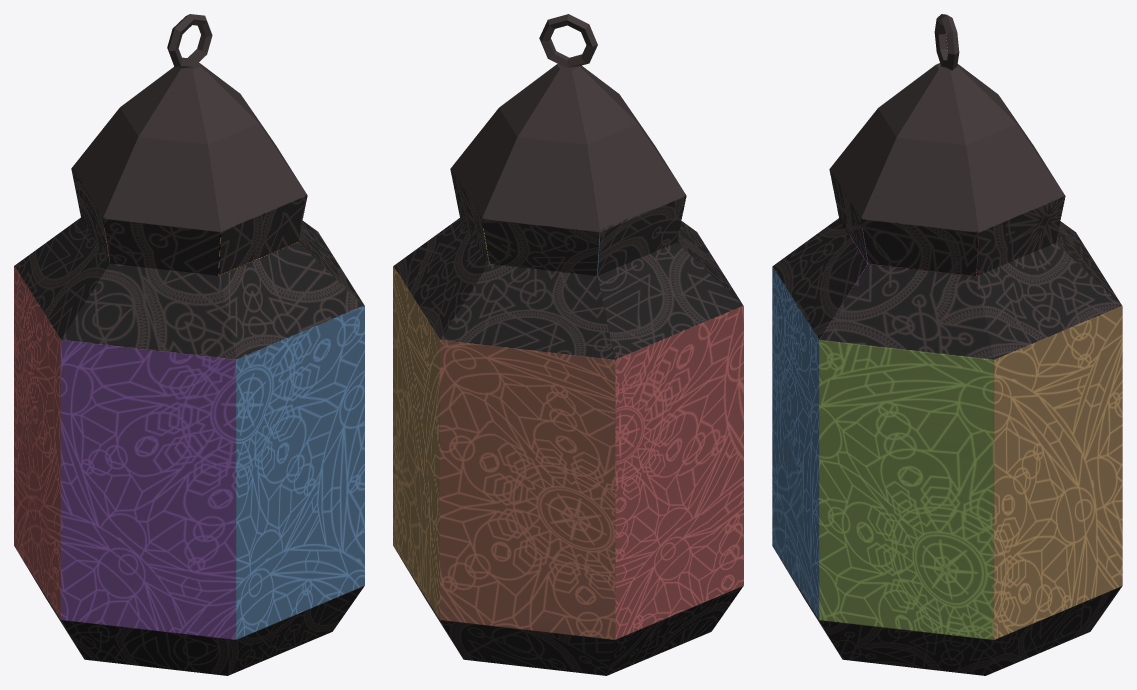
File: latern1.fbx
The picture shows the model from 3 angles, left to right: view 1: azimuth 30°, elevation 25°; view 2: azimuth 150°, elevation 25°; view 3: azimuth 270°, elevation 25°; orthographic projection.
Visible parts, largest first — view 1: Latern1; view 2: Latern1; view 3: Latern1.
Boxes of the visible parts, x1,y1,x2,y2 form: Latern1: (14, 14, 364, 675); Latern1: (393, 14, 743, 675); Latern1: (772, 14, 1122, 675).
Bounding box in the file's own units: 1.93 × 3.65 × 1.93.
